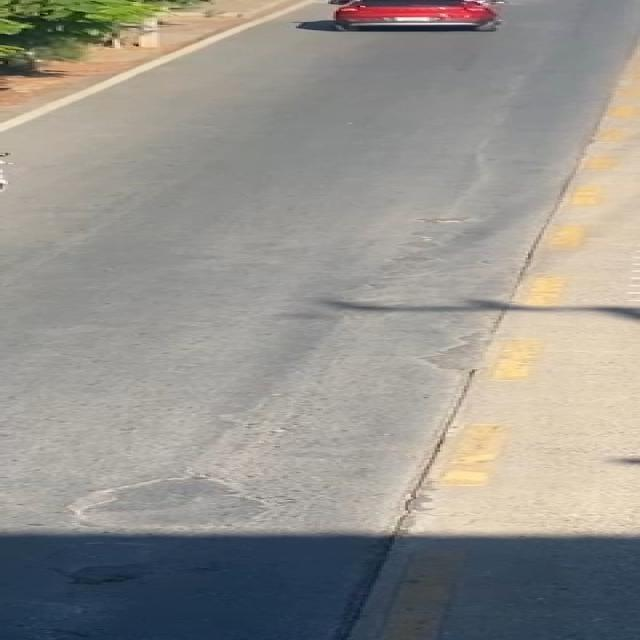car: (297, 0, 530, 37)
